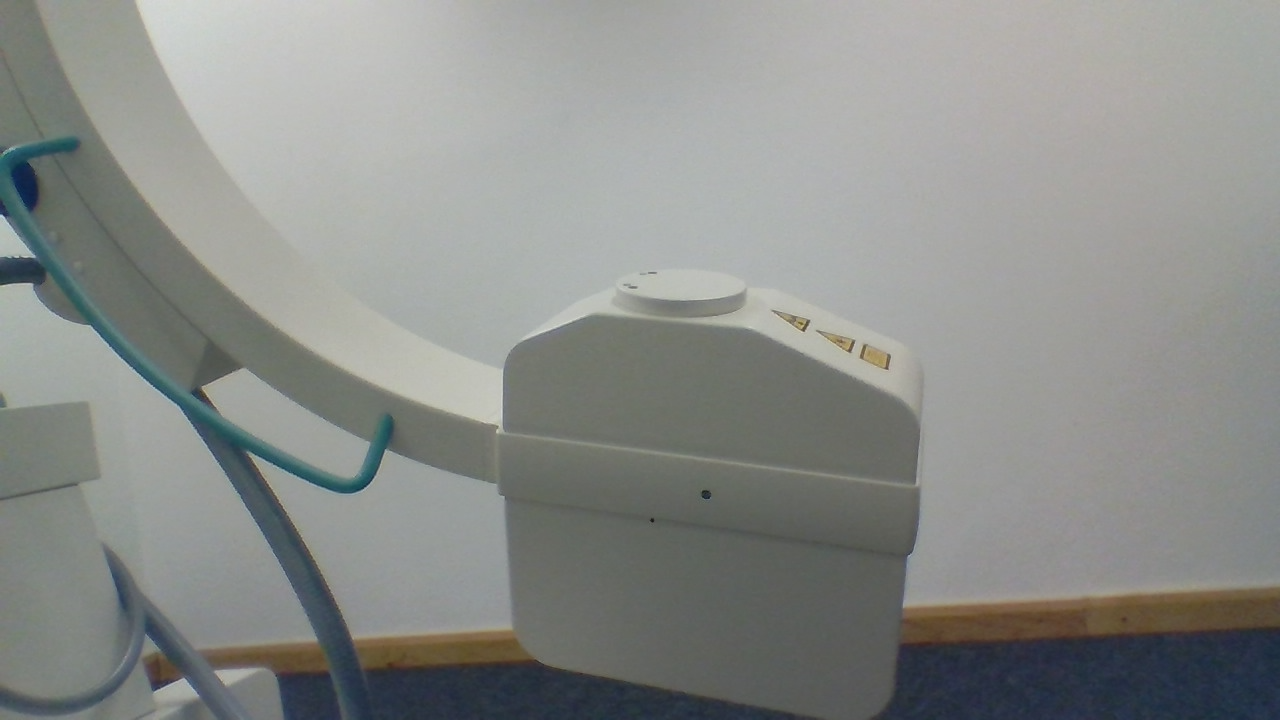carmDOWN: (500, 269, 925, 489)
